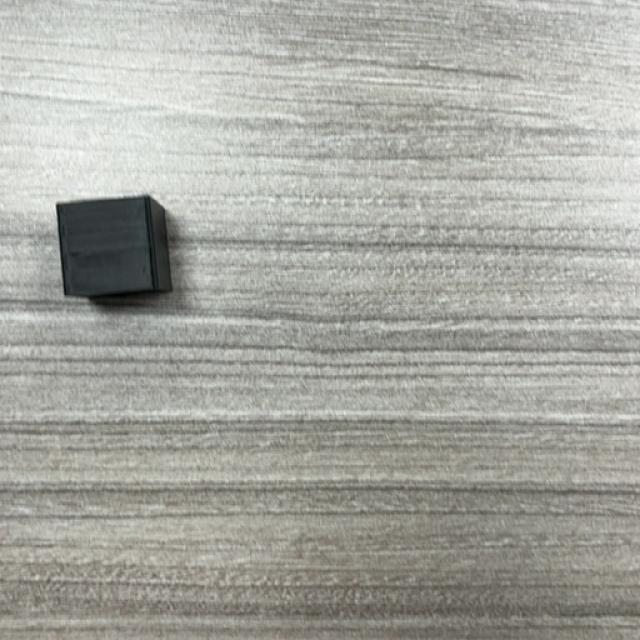Negro: (55, 195, 174, 302)
